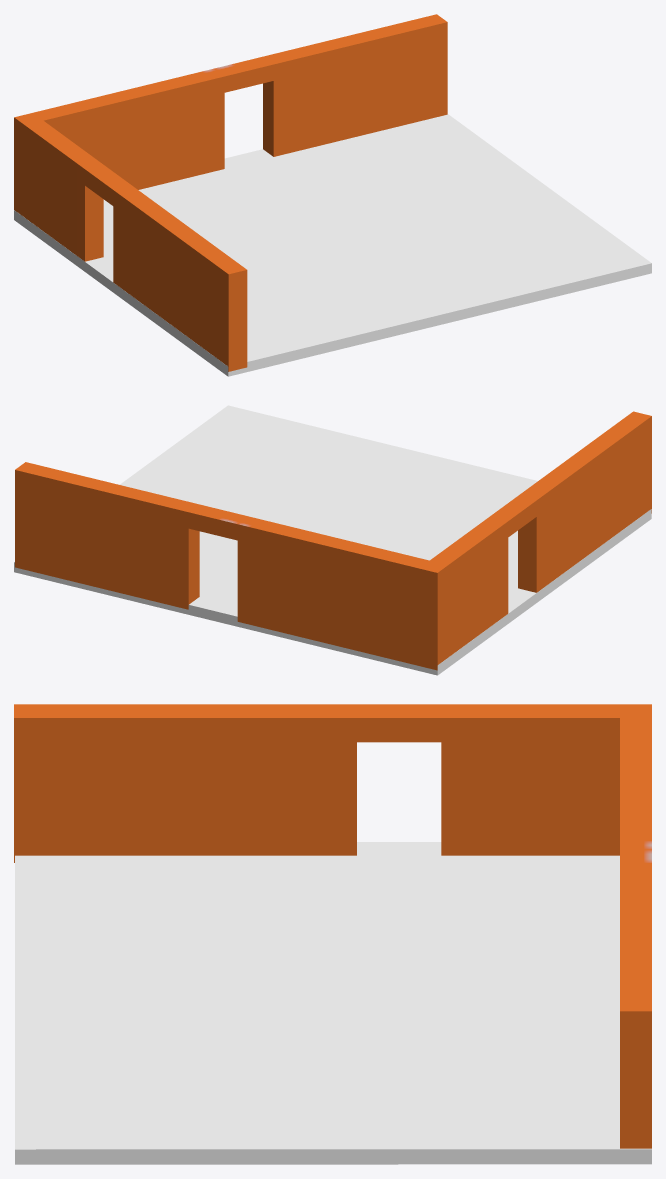
File: kitchen_floor_walls.glb
3 views of the same model, one above another, from view 1: azimuth 30°, elevation 25°; view 2: azimuth 150°, elevation 25°; view 3: azimuth 270°, elevation 25° (orthographic). The views are drawn at different scales.
Visible parts, largest first — view 1: Floor, Walll.004; view 2: Walll.004, Floor; view 3: Floor, Walll.004.
Part boxes in pixels (x1,y1,x2,y2): Floor: (14,114,651,376); Walll.004: (14,14,447,371); Walll.004: (15,411,651,670); Floor: (14,405,651,675); Floor: (15,842,651,1164); Walll.004: (14,704,651,1148).
Size of the model in its own units: 6.36 by 1.47 by 5.58.
2 materials, 2 textured.
